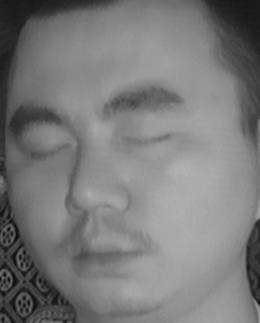blink: (119, 120, 178, 160), (21, 131, 75, 169)
mouth: (61, 221, 146, 282)
